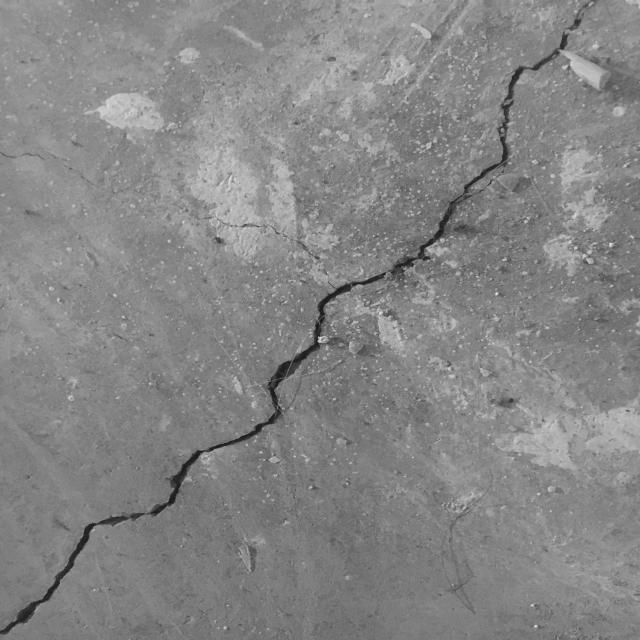SurfaceCrack: (1, 3, 640, 640)
